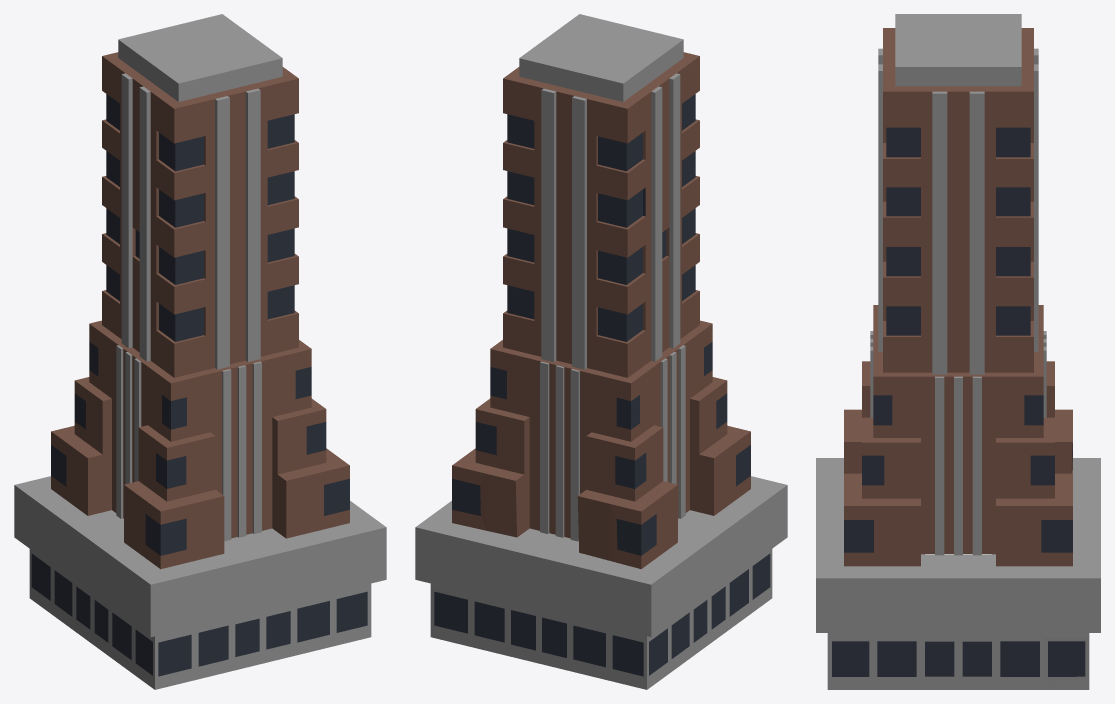
Rendered from skyscraper2.glb.
3 renders of one model, left to right at view 1: azimuth 30°, elevation 25°; view 2: azimuth 150°, elevation 25°; view 3: azimuth 270°, elevation 25°, orthographic. The views are drawn at different scales.
Parts seen in each view (by area): view 1: SM_Skyscraper_02:SM_Skyscraper1, SM_Skyscraper_02:SM_Skyscraper1_c4412f, SM_Skyscraper_02:SM_Skyscraper1_eb69da; view 2: SM_Skyscraper_02:SM_Skyscraper1, SM_Skyscraper_02:SM_Skyscraper1_c4412f, SM_Skyscraper_02:SM_Skyscraper1_eb69da; view 3: SM_Skyscraper_02:SM_Skyscraper1_c4412f, SM_Skyscraper_02:SM_Skyscraper1, SM_Skyscraper_02:SM_Skyscraper1_eb69da, SM_Skyscraper_02:SM_Skyscraper1_7bc324.
Part boxes in pixels (box(x1,y1,x2,y2)): SM_Skyscraper_02:SM_Skyscraper1: box(14, 14, 386, 689); SM_Skyscraper_02:SM_Skyscraper1_c4412f: box(51, 52, 349, 569); SM_Skyscraper_02:SM_Skyscraper1_eb69da: box(31, 94, 367, 676); SM_Skyscraper_02:SM_Skyscraper1: box(415, 14, 787, 689); SM_Skyscraper_02:SM_Skyscraper1_c4412f: box(452, 52, 750, 569); SM_Skyscraper_02:SM_Skyscraper1_eb69da: box(434, 94, 770, 676); SM_Skyscraper_02:SM_Skyscraper1_c4412f: box(844, 28, 1072, 566); SM_Skyscraper_02:SM_Skyscraper1: box(816, 14, 1100, 689); SM_Skyscraper_02:SM_Skyscraper1_eb69da: box(832, 127, 1085, 676); SM_Skyscraper_02:SM_Skyscraper1_7bc324: box(1044, 637, 1089, 680).
Bounding box in the file's own units: 43.35 × 100 × 43.44.
